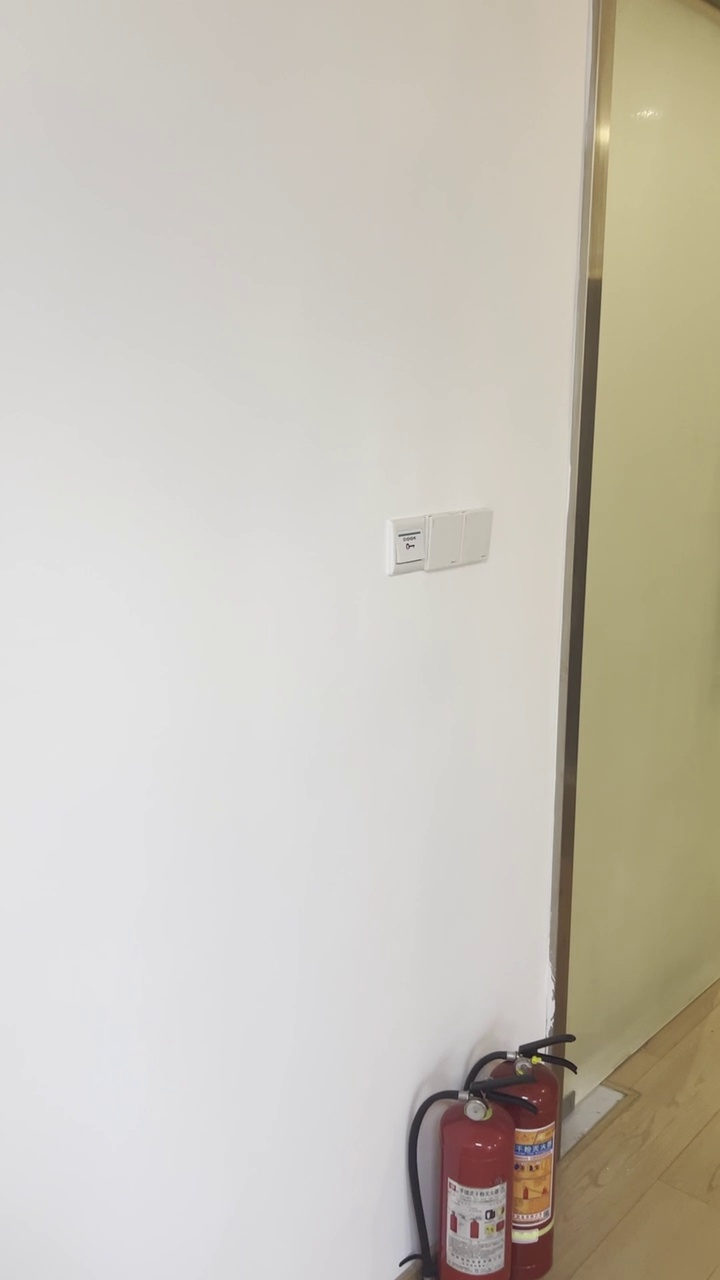button: (422, 510, 468, 573), (461, 509, 495, 569)
